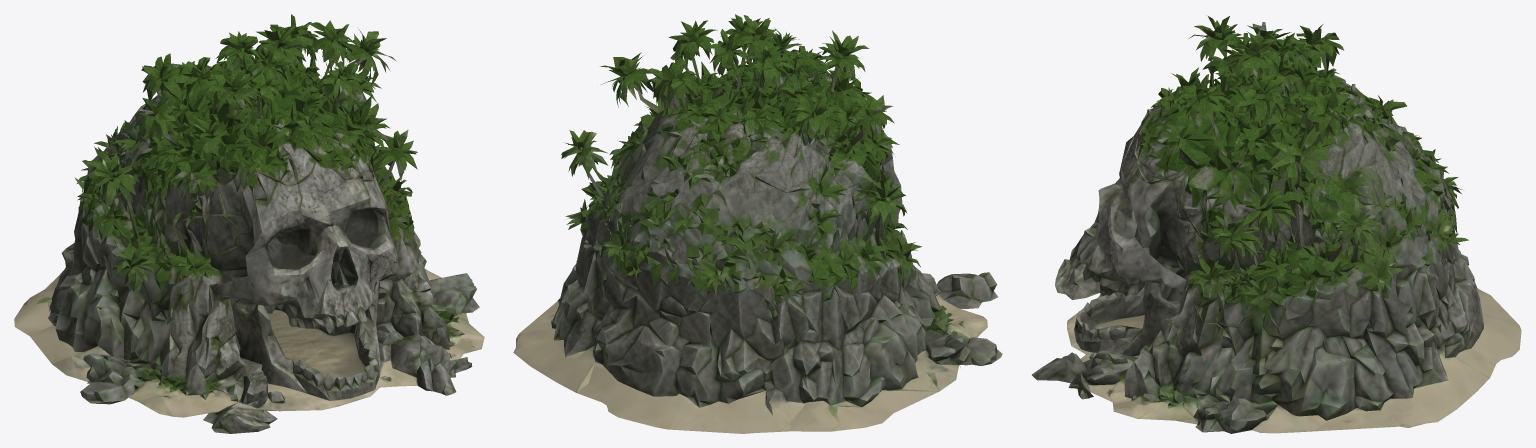
Rendered from skull.glb.
3 renders of one model, left to right at view 1: azimuth 30°, elevation 25°; view 2: azimuth 150°, elevation 25°; view 3: azimuth 270°, elevation 25°, orthographic.
Visible parts, largest first — view 1: Mesh_0; view 2: Mesh_0; view 3: Mesh_0.
Part boxes in pixels (bbox=[...]): Mesh_0: bbox=[14, 14, 484, 433]; Mesh_0: bbox=[513, 14, 1002, 433]; Mesh_0: bbox=[1032, 15, 1521, 433].
Bounding box in the file's own units: 1.84 × 1.33 × 1.9.
1 material, 1 textured.
